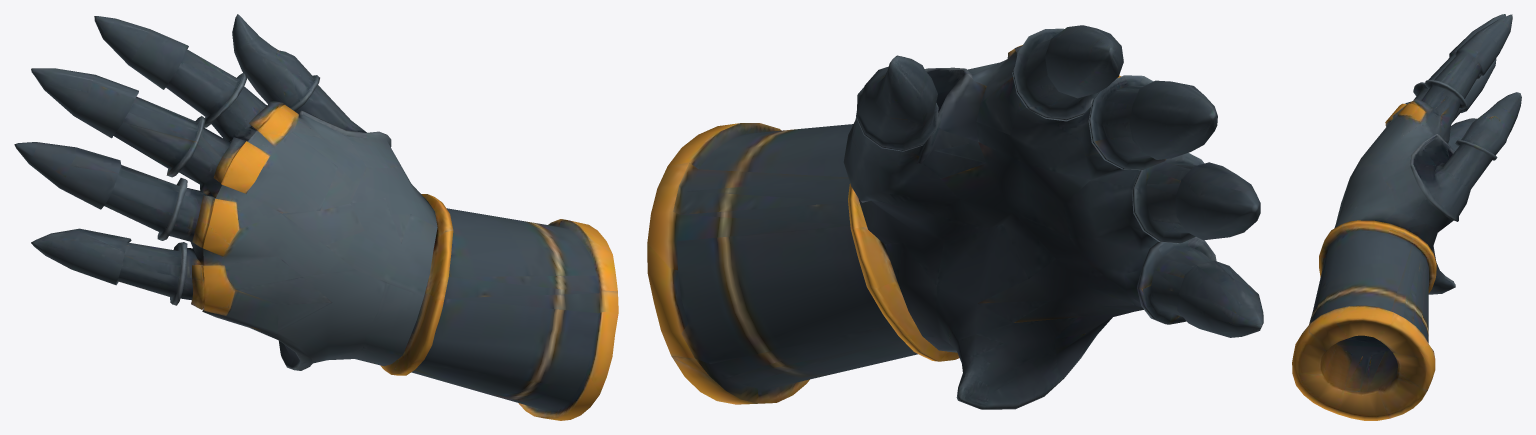
File: plate_glove2.glb
The picture shows the model from 3 angles, left to right: view 1: azimuth 30°, elevation 25°; view 2: azimuth 150°, elevation 25°; view 3: azimuth 270°, elevation 25°; orthographic projection. The views are drawn at different scales.
Size of the model in its own units: 0.9531 by 0.7549 by 0.5469.
Materials: 1 (1 with a texture image).
